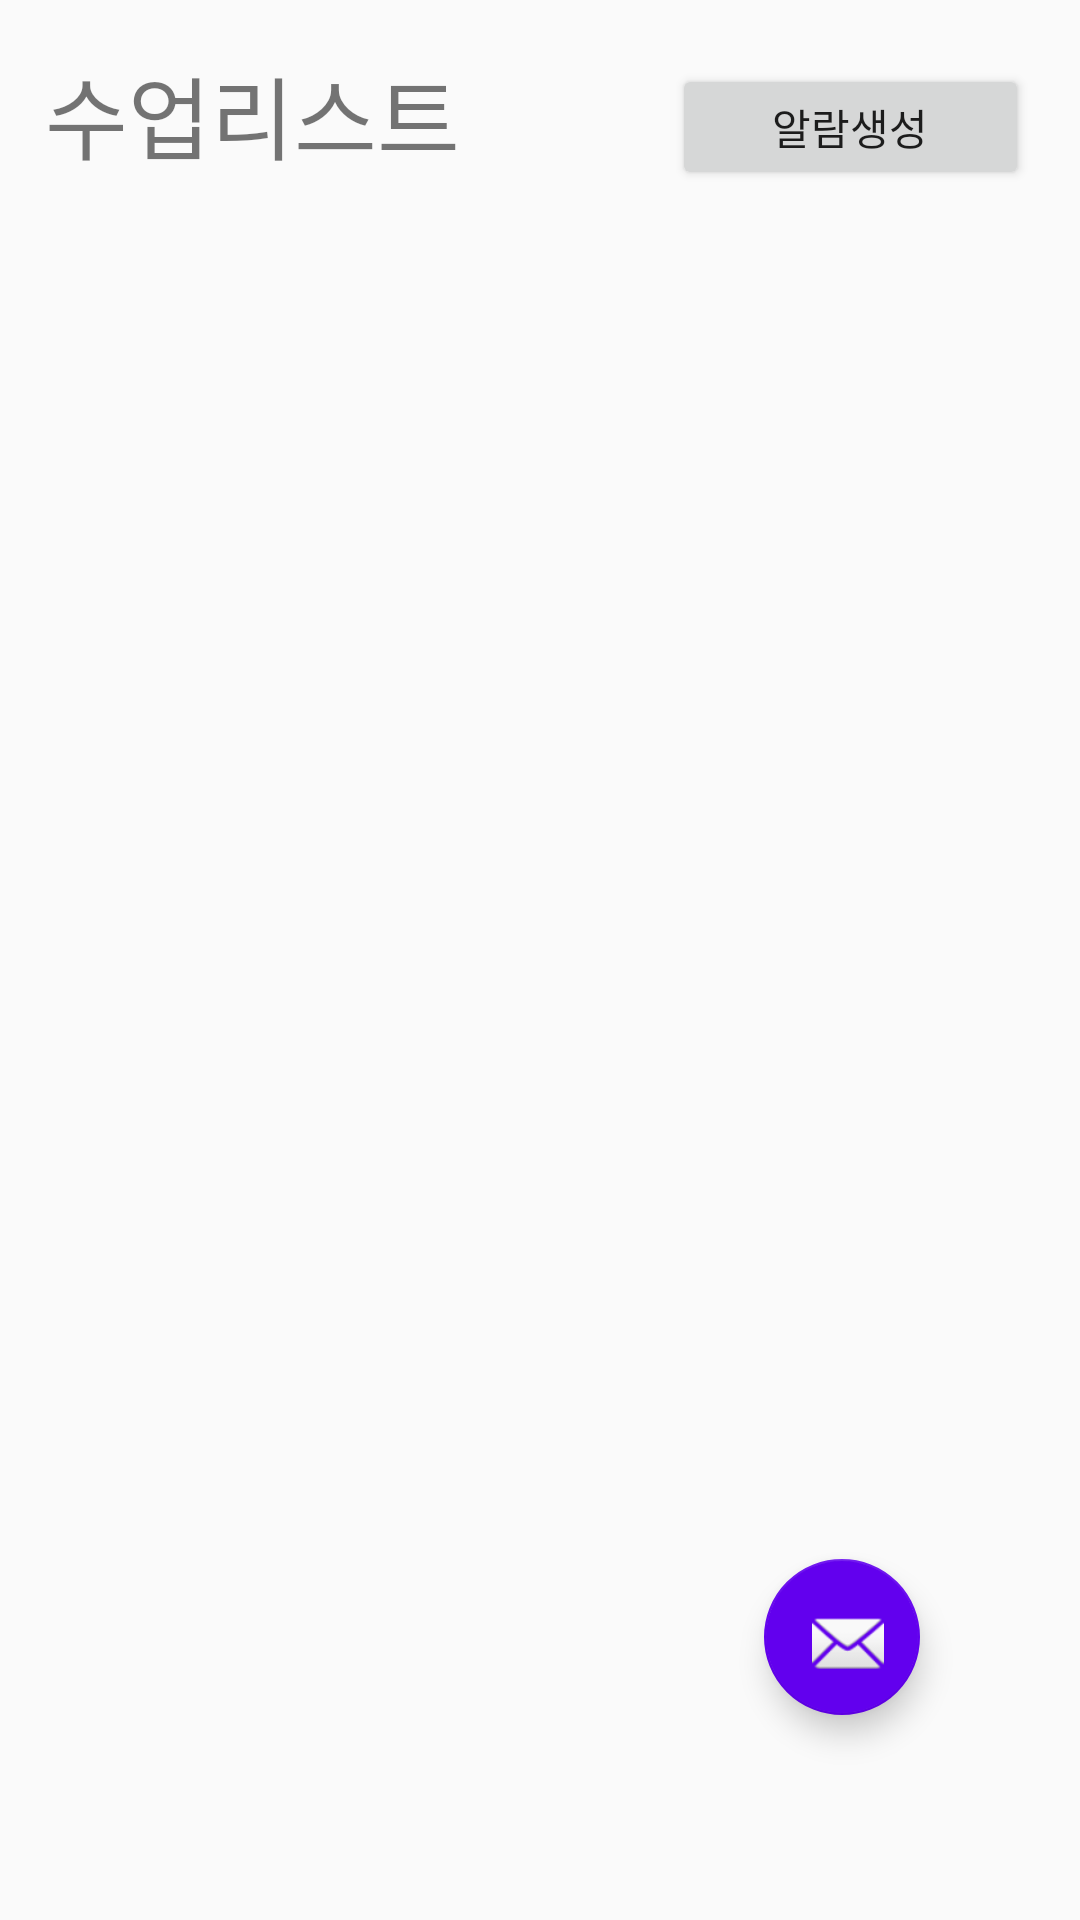

Point at icon controls on the screen. Image size 1080px x 1920px, points as (x=x, y=y).
email: (x=842, y=1637)
